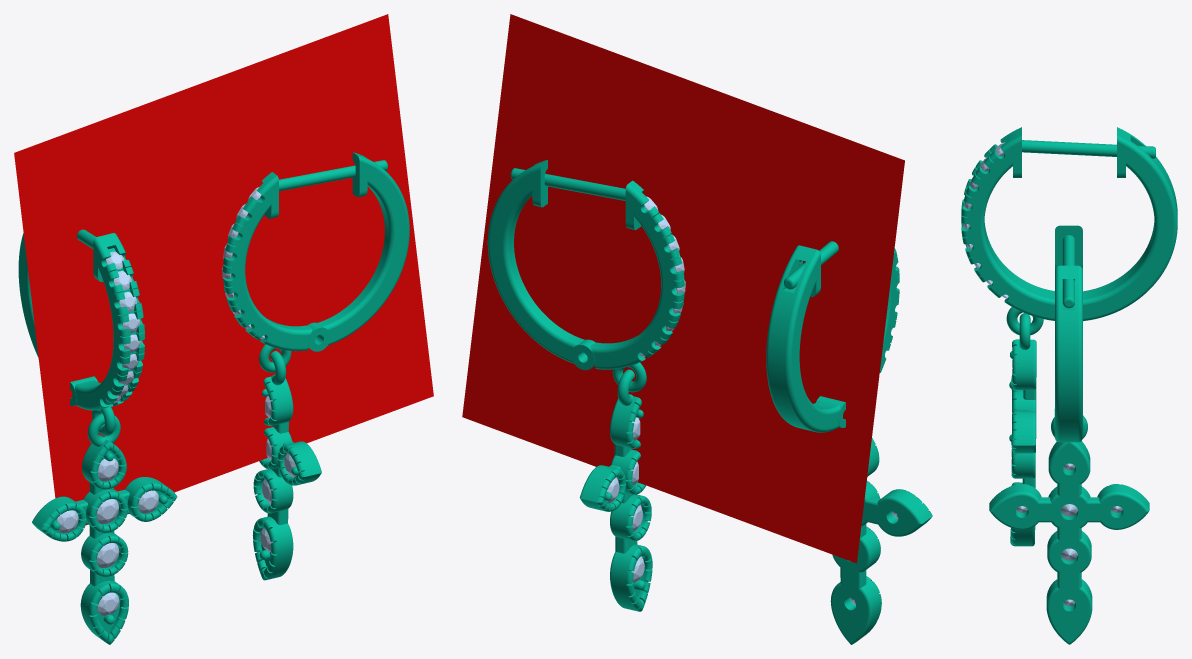
3 views of the same model, side by side, from view 1: azimuth 30°, elevation 25°; view 2: azimuth 150°, elevation 25°; view 3: azimuth 270°, elevation 25° (orthographic). The views are drawn at different scales.
Parts seen in each view (by area): view 1: BALI0003(BASE).3dm, Bezel (×4); view 2: BALI0003(BASE).3dm, Bezel (×3); view 3: BALI0003(BASE).3dm, Bezel (×4).
Part boxes in pixels (<box>): BALI0003(BASE).3dm: <box>14,14,433,644</box>; Bezel (×4): <box>81,427,293,576</box>; BALI0003(BASE).3dm: <box>462,14,932,644</box>; Bezel (×3): <box>610,449,880,572</box>; BALI0003(BASE).3dm: <box>961,127,1177,644</box>; Bezel (×4): <box>1011,390,1091,573</box>.
Size of what is drawn, in the model's own units: 2.89 by 3.53 by 1.27.
